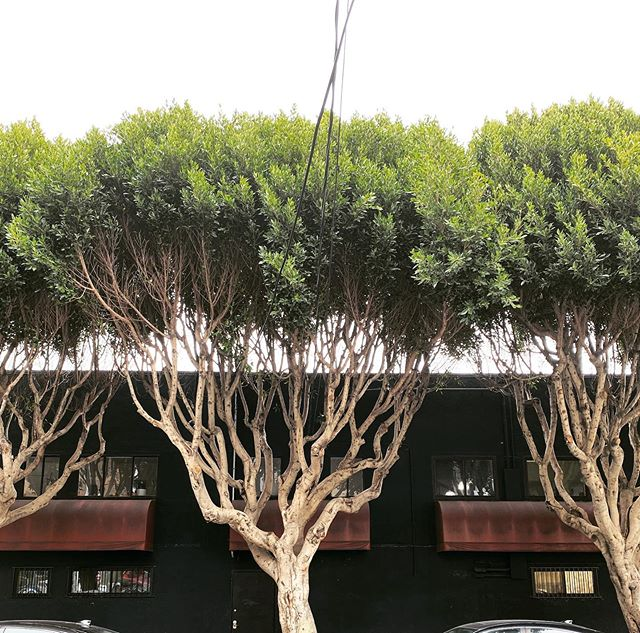building: (1, 388, 631, 633)
tree: (107, 114, 459, 630), (459, 114, 640, 618), (1, 123, 134, 542)
